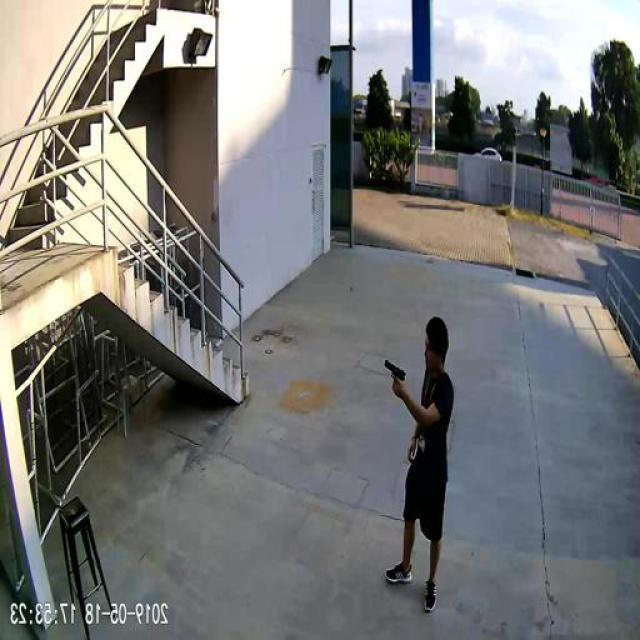Gun: (385, 356, 409, 380)
